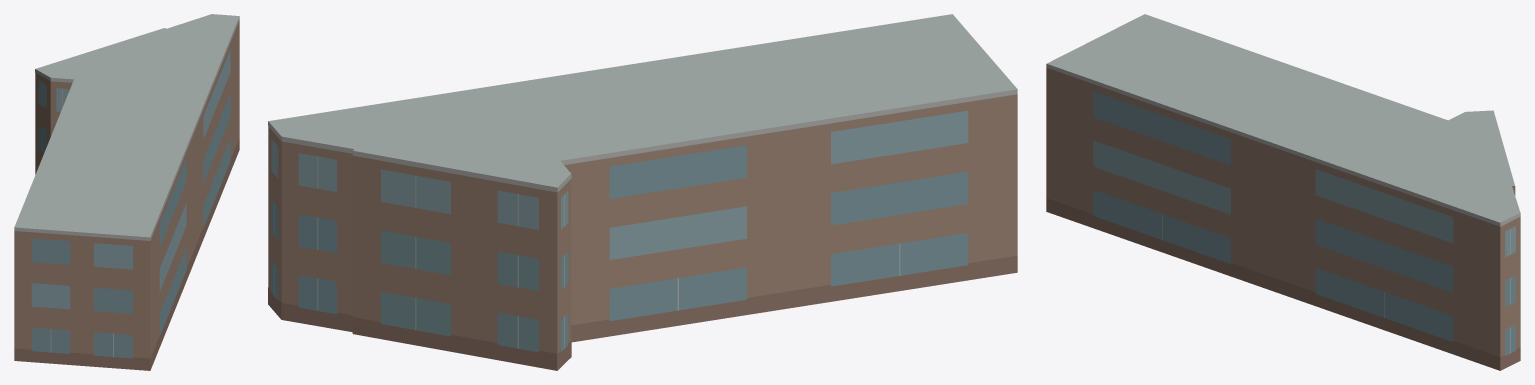
File: survey-upis-32520970.glb
3 renders of one model, left to right at view 1: azimuth 30°, elevation 25°; view 2: azimuth 150°, elevation 25°; view 3: azimuth 270°, elevation 25°, orthographic. The views are drawn at different scales.
Parts seen in each view (by area): view 1: survey-upis-32520970.tmp; view 2: survey-upis-32520970.tmp; view 3: survey-upis-32520970.tmp.
Part boxes in pixels (box(x1,y1,x2,y2)): survey-upis-32520970.tmp: box(14, 14, 239, 370); survey-upis-32520970.tmp: box(268, 14, 1017, 370); survey-upis-32520970.tmp: box(1046, 14, 1520, 370).
Bounding box in the file's own units: 27.67 × 9.15 × 26.55.
